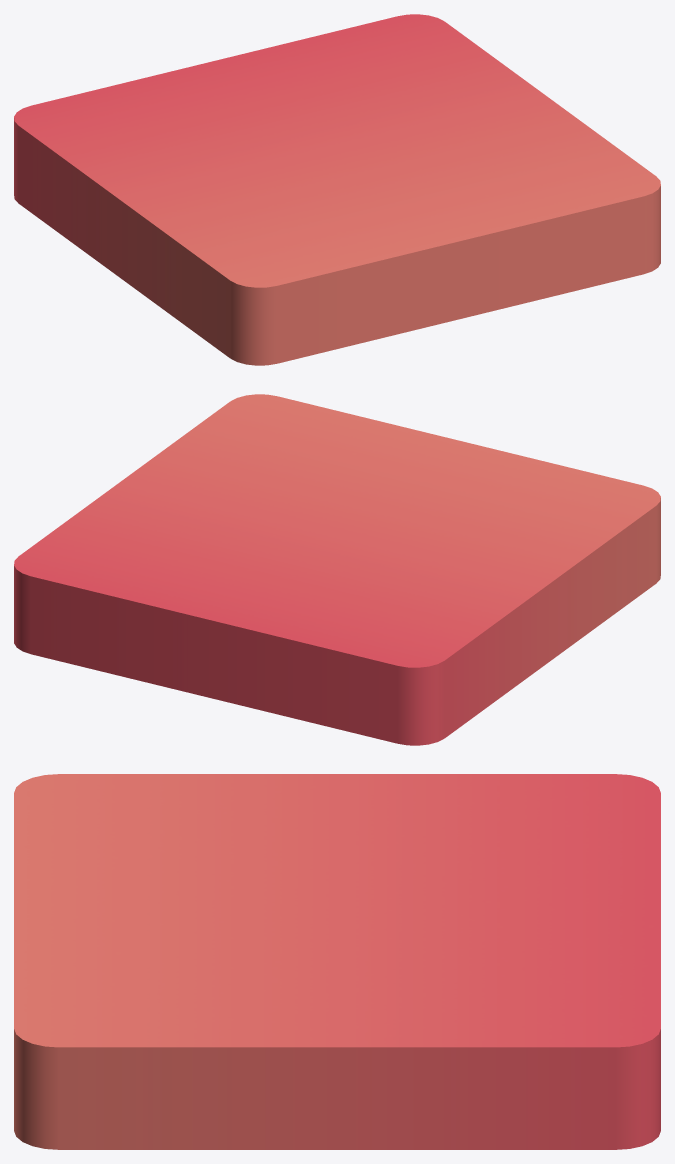
Rendered from PR_SquarePlatformRound.fbx.
3 renders of one model, top to bottom at view 1: azimuth 30°, elevation 25°; view 2: azimuth 150°, elevation 25°; view 3: azimuth 270°, elevation 25°, orthographic. The views are drawn at different scales.
Visible parts, largest first — view 1: PR_SquarePlatformRound; view 2: PR_SquarePlatformRound; view 3: PR_SquarePlatformRound.
Boxes of the visible parts, x1,y1,x2,y2 form: PR_SquarePlatformRound: [14, 14, 660, 365]; PR_SquarePlatformRound: [14, 394, 660, 745]; PR_SquarePlatformRound: [14, 774, 660, 1149].
Bounding box in the file's own units: 278 × 48.61 × 278.
1 material, 1 textured.
